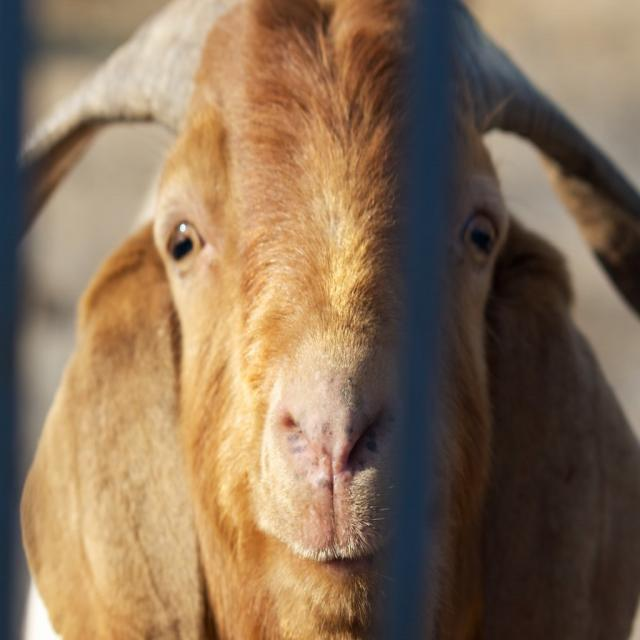Goat: (13, 1, 640, 640)
